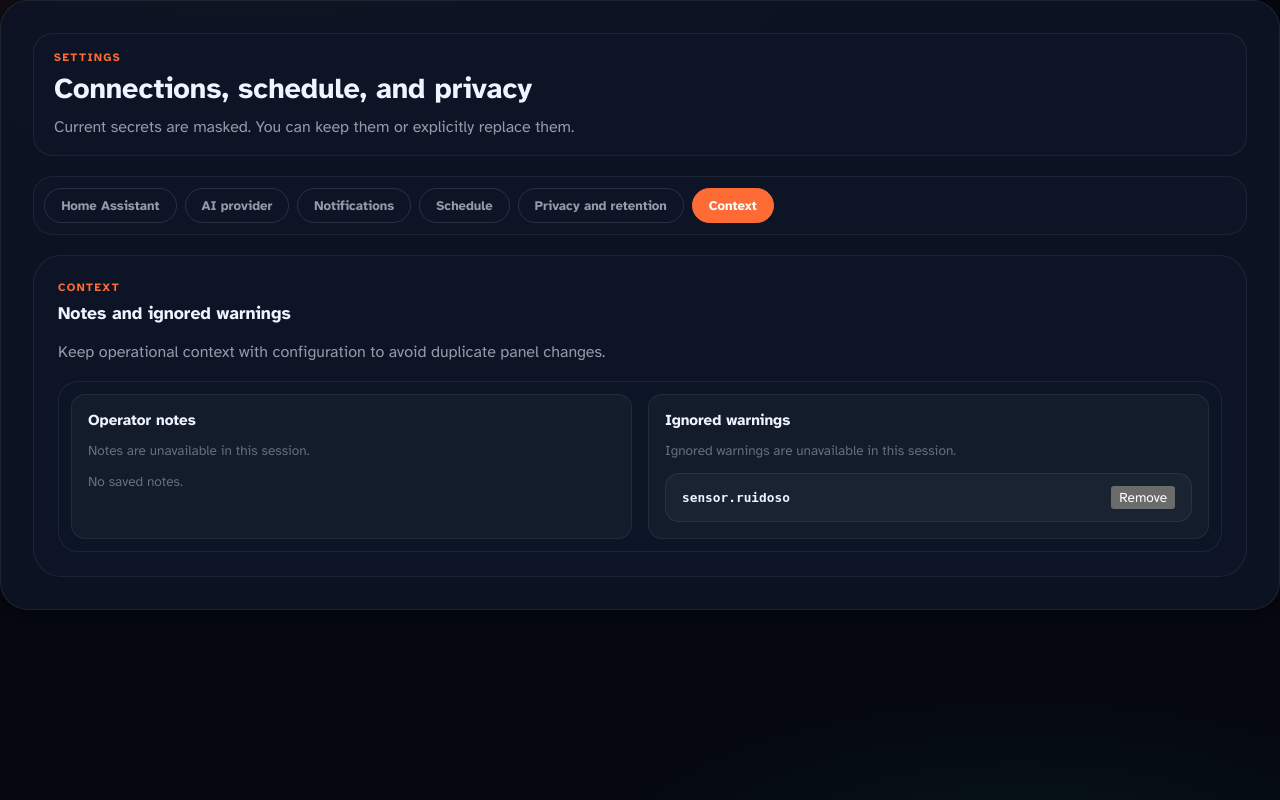
Test case: SettingsPanel › keeps an ignored warning after a confirmed removal fails and offers a safe retry
Click the button with test id "remove-ignore-ignore-1" at (1143, 497), box [1111,486,1175,509]
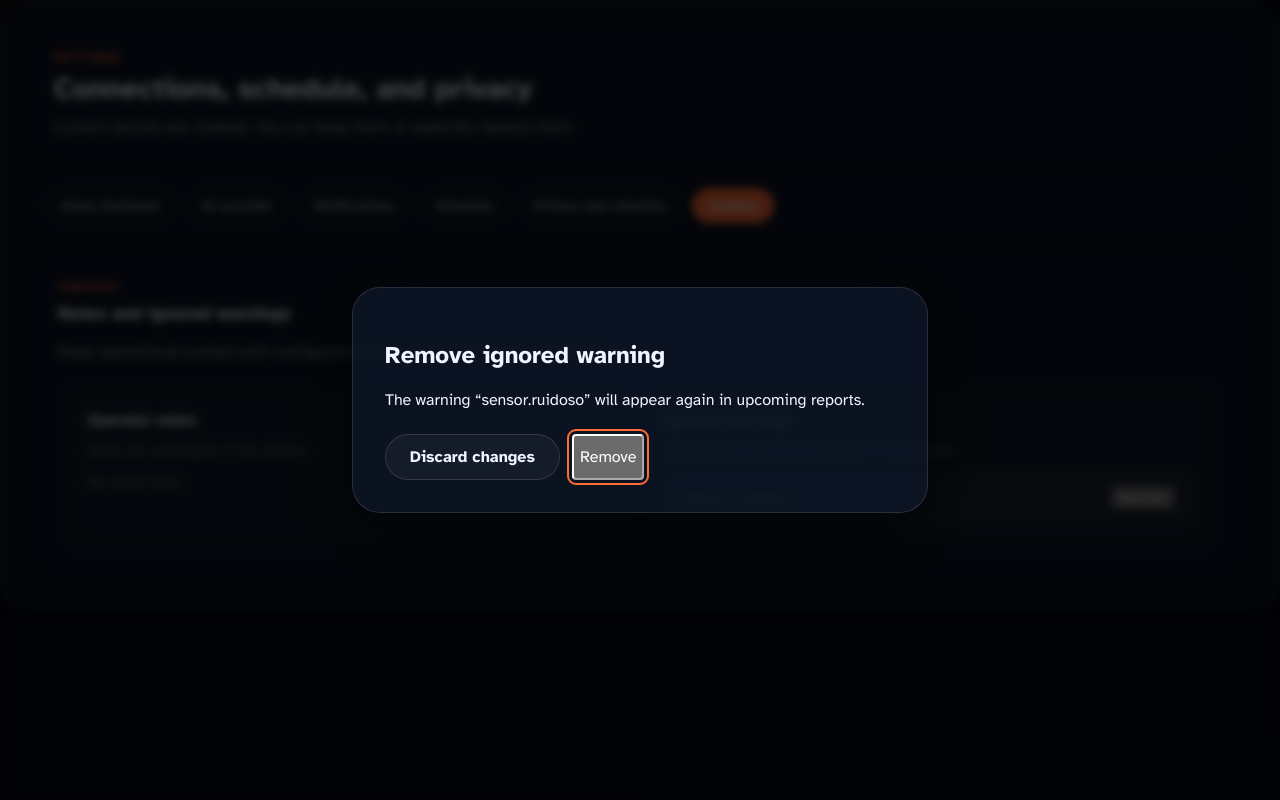
Click the button "Remove" at (608, 457), box [572,434,644,480]
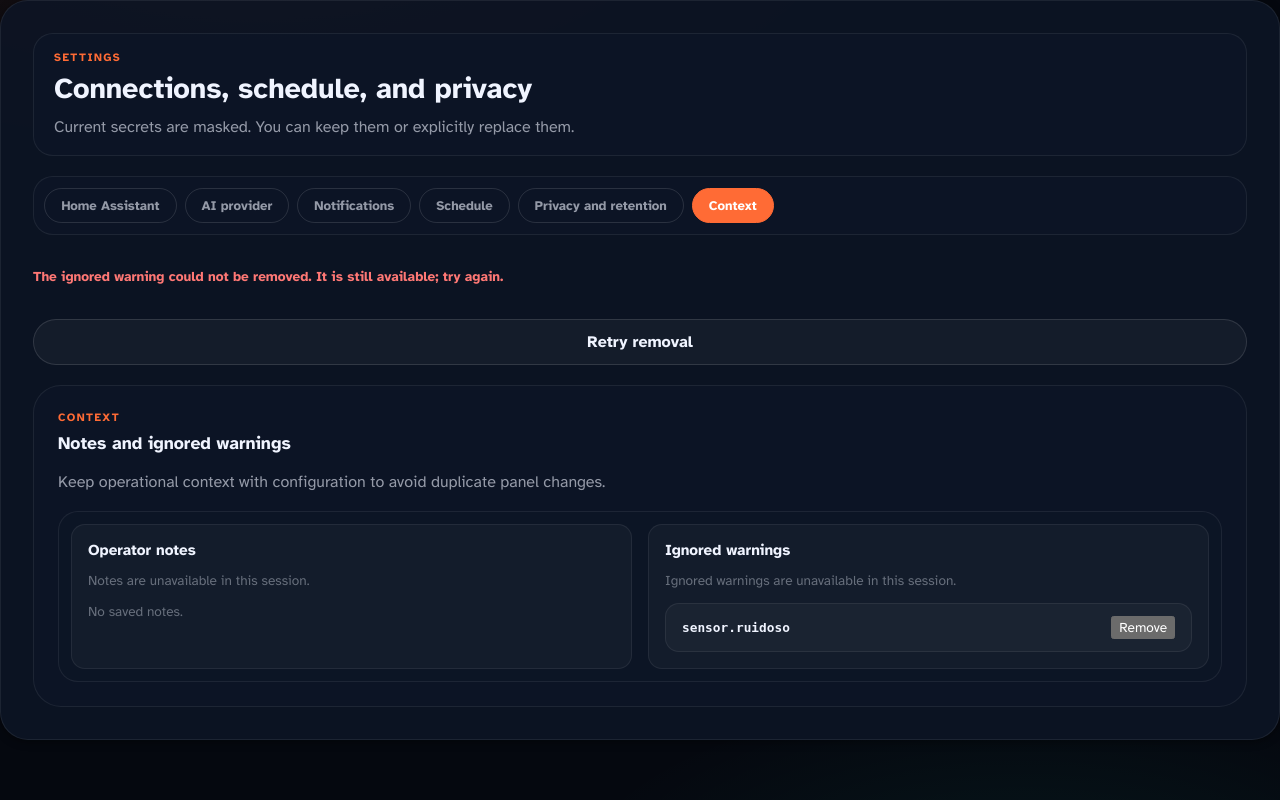
Expected: the text "sensor.ruidoso" is shown, [682,620,790,635]
Result: the text "The ignored warning could not be removed" is shown at [33,268,503,285]
Result: the dialog is gone
